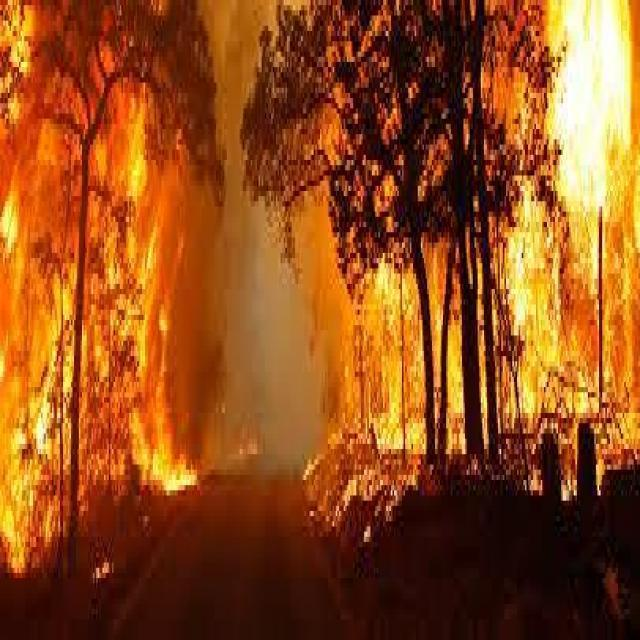Fire: (0, 0, 209, 533), (496, 1, 636, 460)
